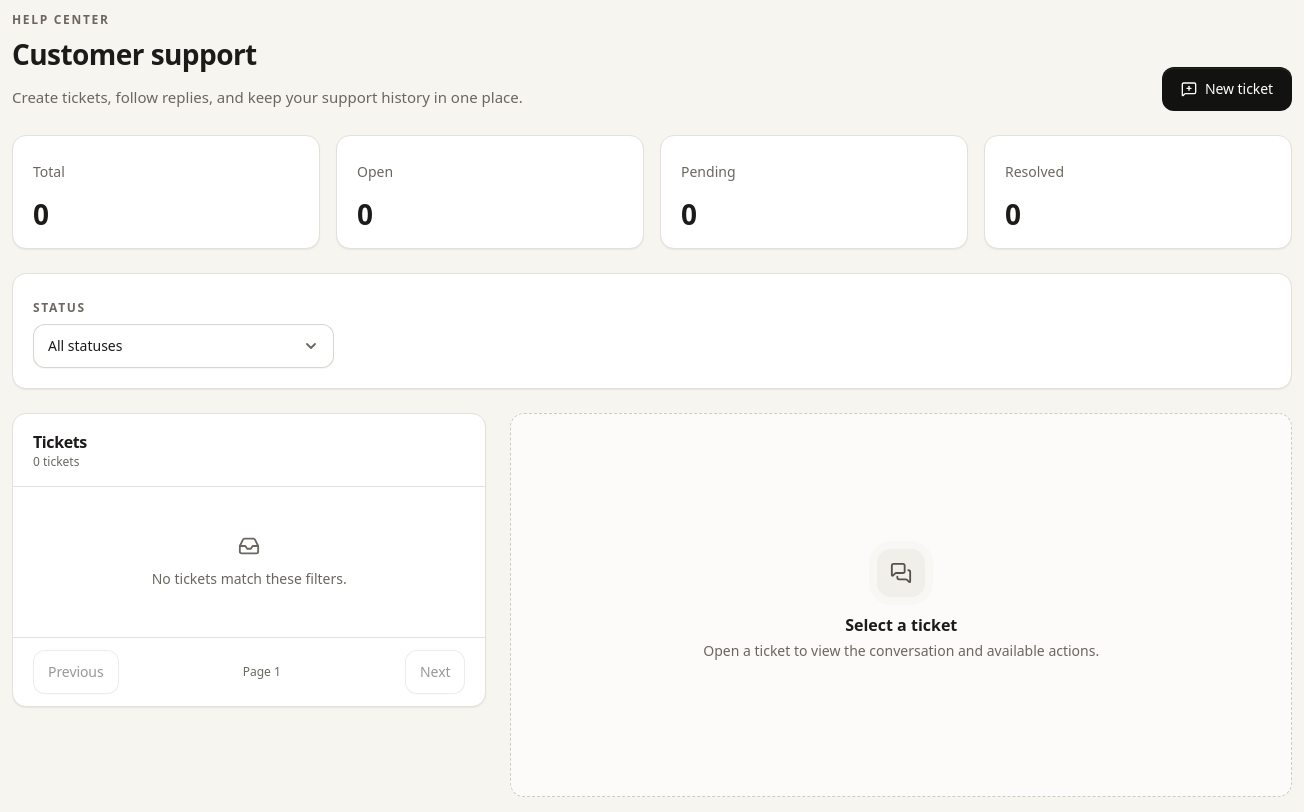
SupportCenter › keeps the newest filter's list and summary when an older workspace finishes last
Expected: the heading "Customer support" is shown, [12, 35, 257, 73]
Select "Open" in the dropdown named "Filter status" at (183, 346), box [33, 324, 334, 368]
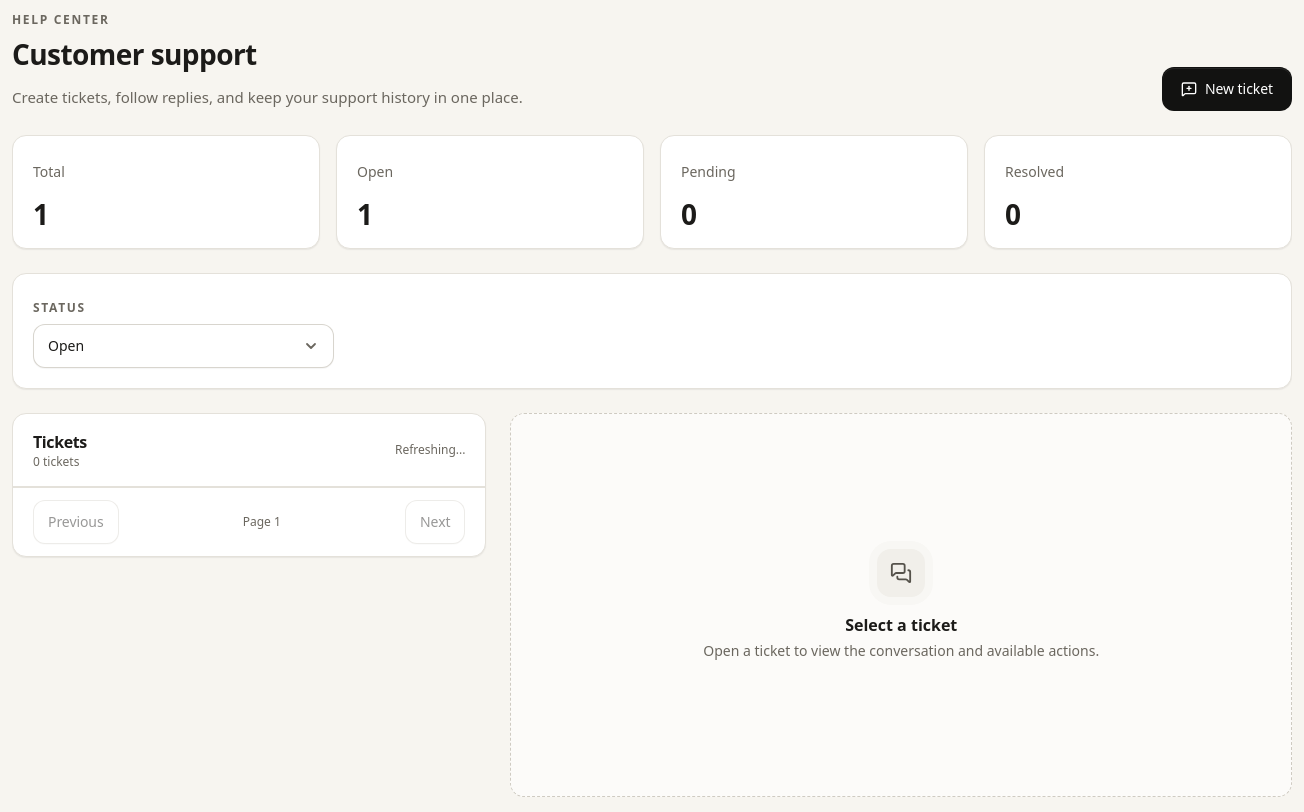
Select "Pending" in the dropdown named "Filter status" at (183, 346), box [33, 324, 334, 368]
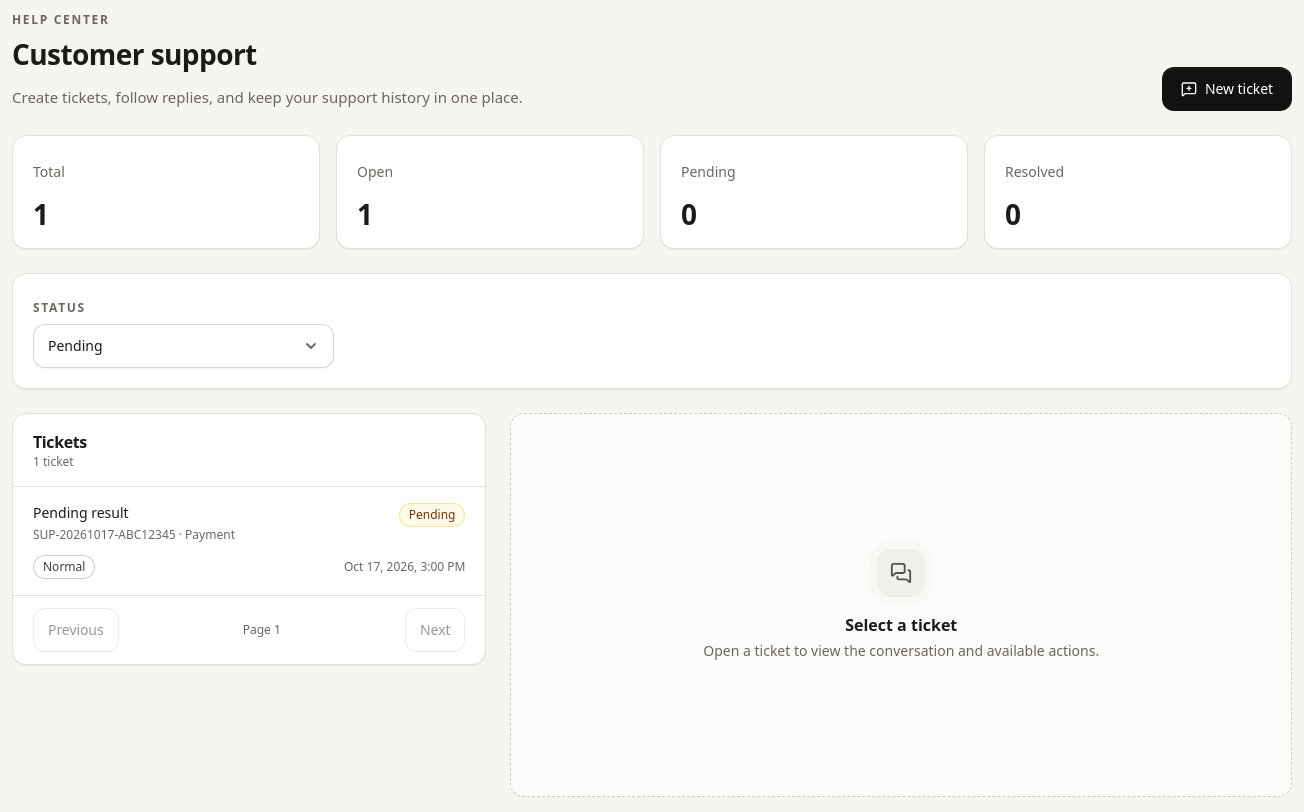
Expected: the text "1" below "Total" is shown, [33, 195, 48, 233]
Expected: the button "Pending result" is shown, [13, 487, 486, 595]
Expected: the text "Refreshing..." is gone
